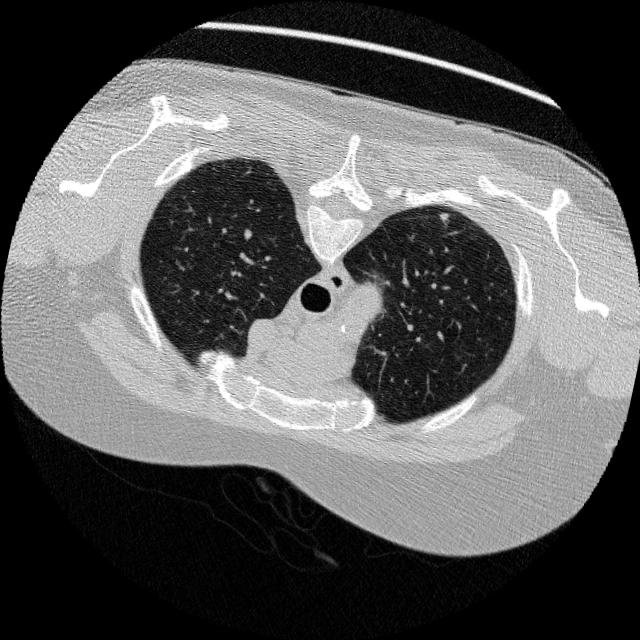nodule: (429, 205, 454, 229)
